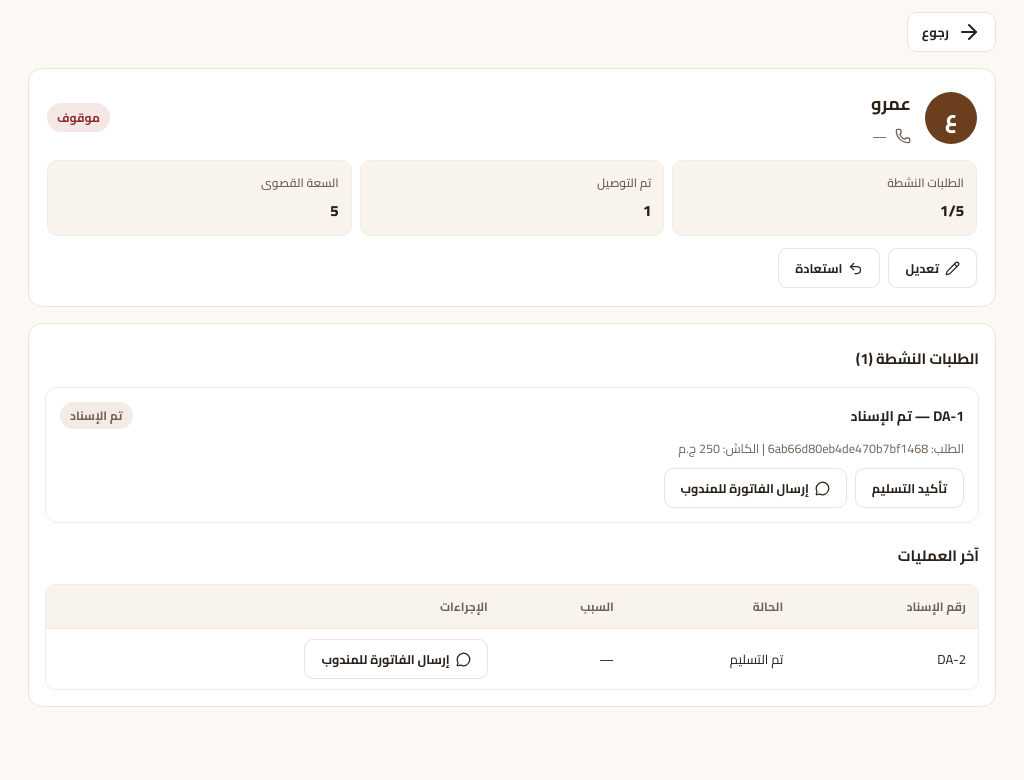
Test case: delegate details actions › reports a missing delegate whatsapp number instead of opening a broken link
This screenshot has width=1024, height=780.
Click the button "إرسال الفاتورة للمندوب" below "الطلب:" at (755, 488), box [664,468,847,508]
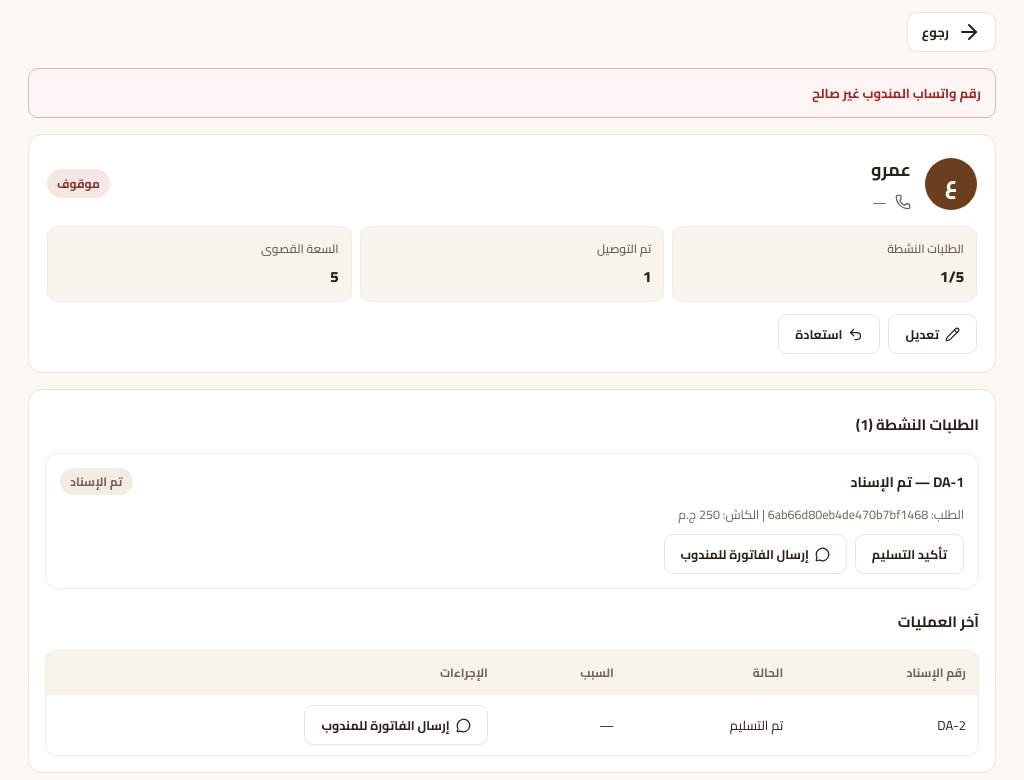
Now the message reads "رقم واتساب المندوب غير صالح", box [812,81,981,105]
